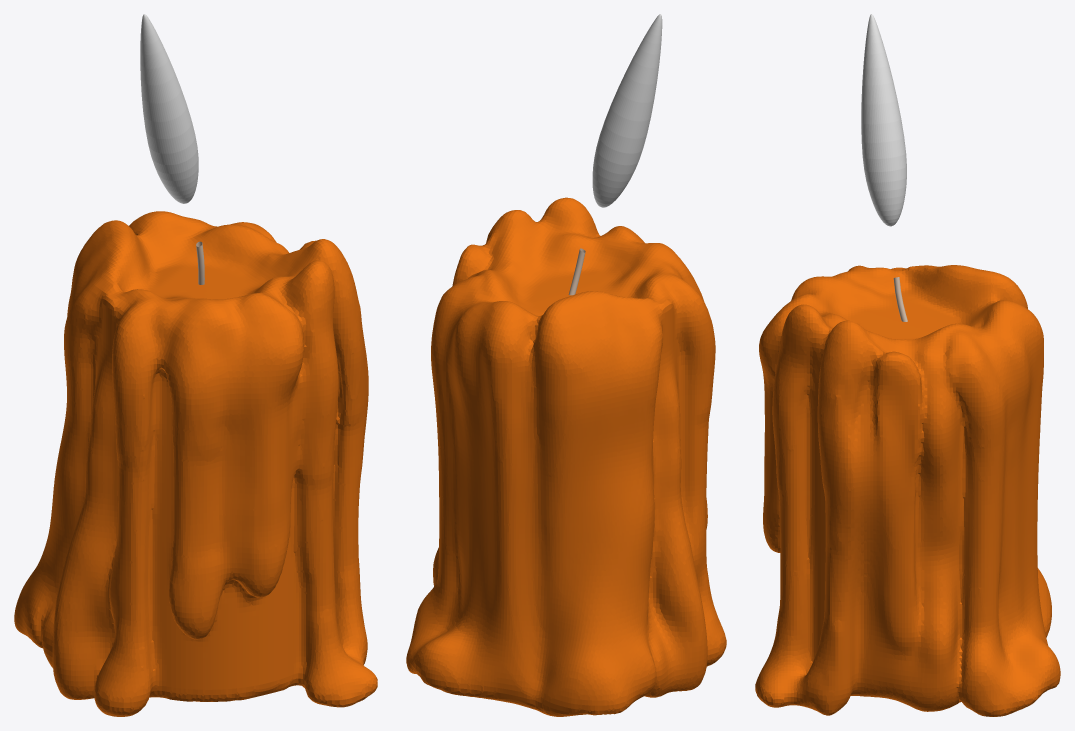
The model's file is Свеча.fbx.
The picture shows the model from 3 angles, left to right: view 1: azimuth 30°, elevation 25°; view 2: azimuth 150°, elevation 25°; view 3: azimuth 270°, elevation 25°; orthographic projection. The views are drawn at different scales.
Visible parts, largest first — view 1: Свеча, Sphere.010; view 2: Свеча, Sphere.010; view 3: Свеча, Sphere.010.
Boxes of the visible parts, bbox=[...] form: Свеча: bbox=[14, 211, 377, 716]; Sphere.010: bbox=[140, 14, 198, 203]; Свеча: bbox=[406, 197, 726, 716]; Sphere.010: bbox=[592, 14, 662, 207]; Свеча: bbox=[755, 265, 1060, 716]; Sphere.010: bbox=[861, 14, 906, 226].
Size of the model in its own units: 6.54 by 15.44 by 6.88.
